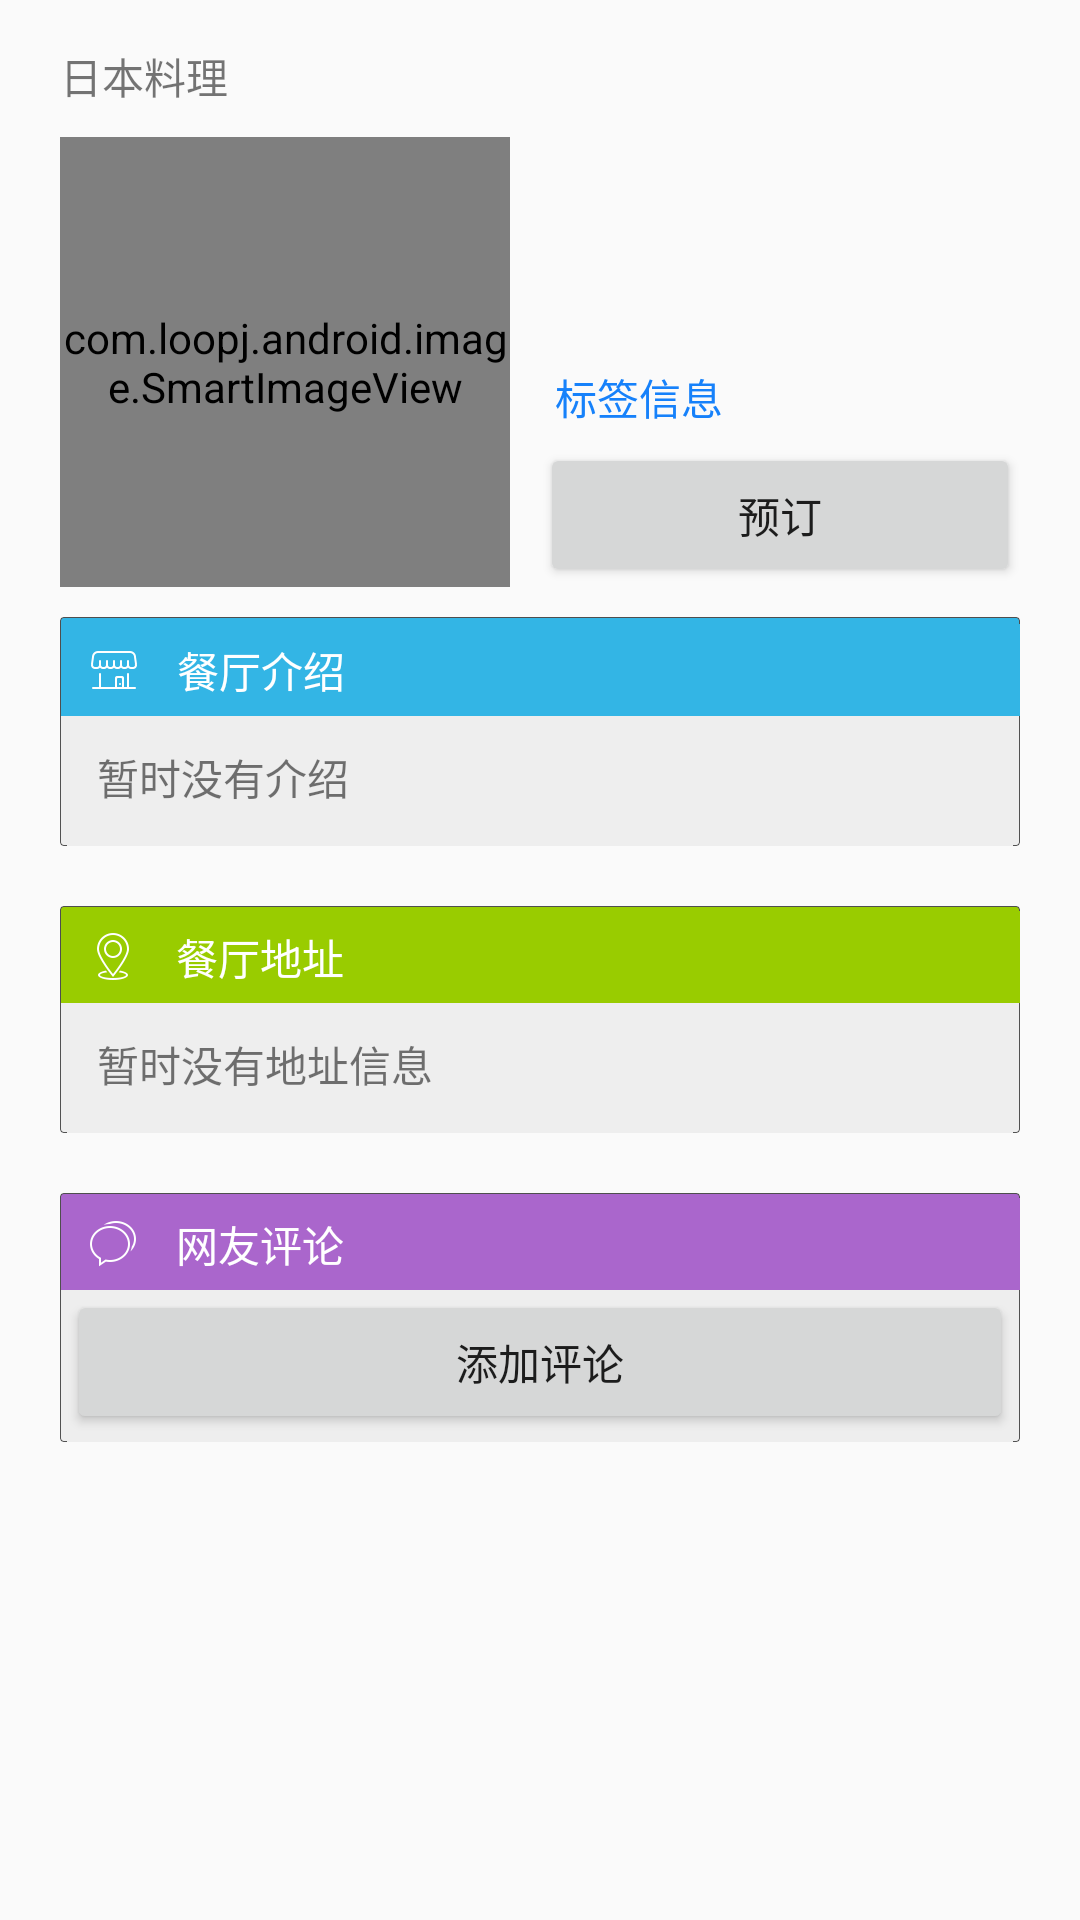

Point at icon controls on the screen. Image size 1080 x 1920, points as (x,y).
bubbles: (113,1243)
location: (113,956)
store: (114,670)
